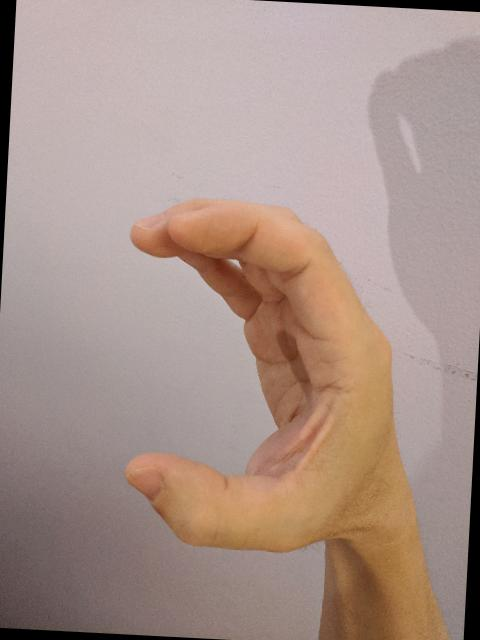C: (107, 188, 437, 568)
